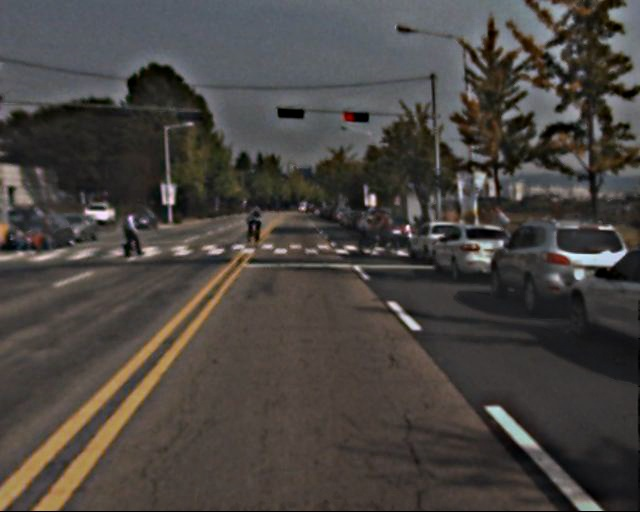person: (17, 211, 52, 249), (124, 210, 144, 258), (371, 206, 390, 252), (247, 204, 265, 247)
